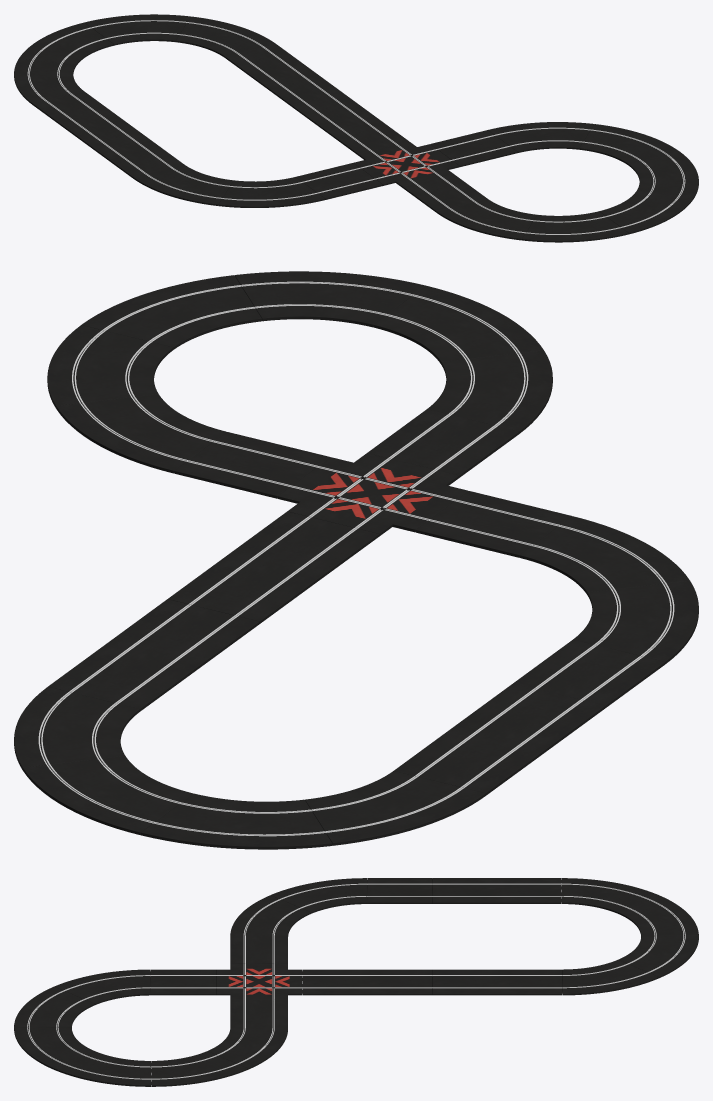
File: track.glb
3 renders of one model, top to bottom at view 1: azimuth 30°, elevation 25°; view 2: azimuth 150°, elevation 25°; view 3: azimuth 270°, elevation 25°, orthographic. The views are drawn at different scales.
Visible parts, largest first — view 1: Plastic_Matte-material (×20), Plastic_Cross-material, Rail-material; view 2: Plastic_Matte-material (×20), Rail-material (×4), Plastic_Cross-material; view 3: Plastic_Matte-material (×20), Rail-material (×4), Plastic_Cross-material.
Part boxes in pixels (bbox=[...]): Plastic_Matte-material (×20): bbox=[14, 14, 698, 240]; Plastic_Cross-material: bbox=[372, 149, 440, 178]; Rail-material: bbox=[360, 145, 452, 183]; Plastic_Matte-material (×20): bbox=[14, 271, 698, 846]; Rail-material (×4): bbox=[69, 458, 583, 788]; Plastic_Cross-material: bbox=[312, 467, 434, 519]; Plastic_Matte-material (×20): bbox=[14, 878, 698, 1085]; Rail-material (×4): bbox=[216, 883, 561, 999]; Plastic_Cross-material: bbox=[228, 968, 289, 994].
Bounding box in the file's own units: 1.32 × 0.005 × 1.85.
5 materials, 3 textured.
